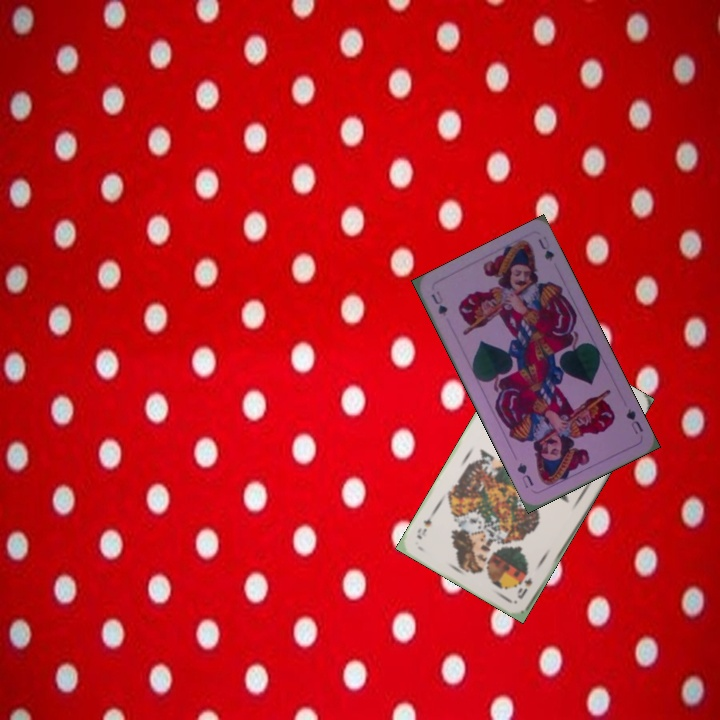GU: (622, 405, 646, 437), (427, 287, 450, 319)
SO: (513, 573, 535, 602)
